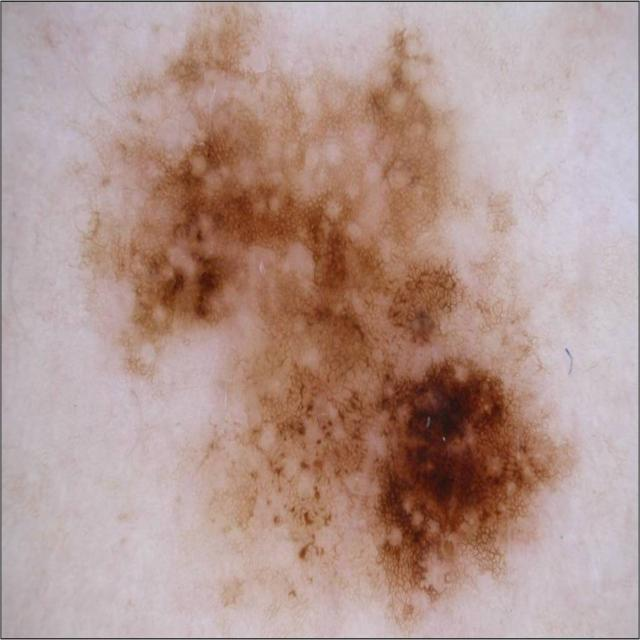Melanoma: (91, 9, 574, 628)
